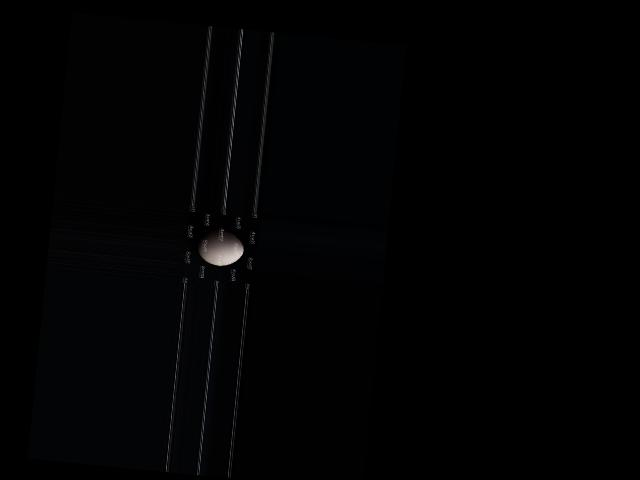egg: (195, 228, 245, 267)
